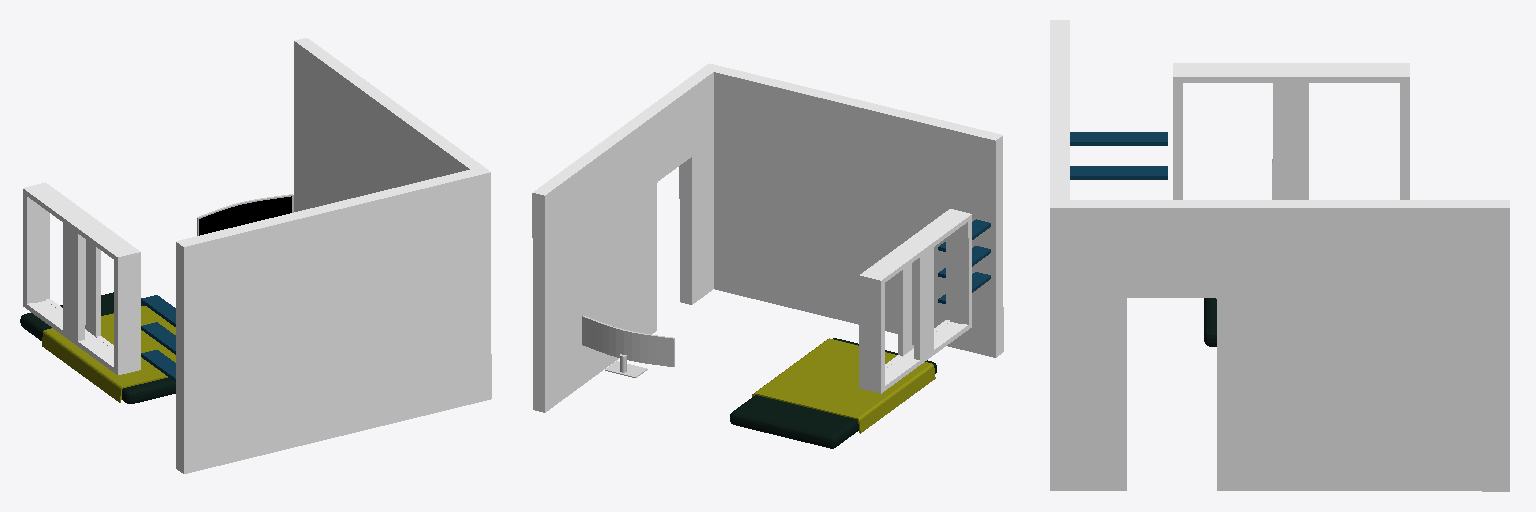
URDF robot description (bedroom):
<?xml version="0.0" ?>
<robot name="bedroom">
  <link name="wall1">
    <contact>
      <lateral_friction value="1.0"/>
      <rolling_friction value="0.0"/>
      <contact_cfm value="0.0"/>
      <contact_erp value="1.0"/>
    </contact>
    <inertial>
      <origin rpy="1.57 0 0" xyz="0.0 0.0 0.0"/>
       <mass value=".1"/>
       <inertia ixx="1" ixy="0" ixz="0" iyy="1" iyz="0" izz="1"/>
    </inertial>
    <visual>
      <origin rpy="1.57 0 0" xyz="0 0 0.0"/>
      <geometry>
        <mesh filename="meshes/bedroom/wall1.obj" />
      </geometry>

    </visual>
    <collision>
      <origin rpy="1.57 0 0" xyz="0 0 0.0"/>
      <geometry>
	 	<mesh filename="meshes/bedroom/wall1.obj" />
      </geometry>
    </collision>
  </link>

  <joint name="wall1" type="fixed">
    <origin rpy="0 0 0" xyz=" 0 0 0"/>
    <parent link="wall1"/>
    <child link="wall2"/>
  </joint>
    <link name="wall2">
    <contact>
      <lateral_friction value="1.0"/>
      <rolling_friction value="0.0"/>
      <contact_cfm value="0.0"/>
      <contact_erp value="1.0"/>
    </contact>
    <inertial>
      <origin rpy="1.57 0 0" xyz="0.0 0.0 0."/>
       <mass value=".1"/>
       <inertia ixx="1" ixy="0" ixz="0" iyy="1" iyz="0" izz="1"/>
    </inertial>
    <visual>
      <origin rpy="1.57 0 0" xyz="0 0 0.0"/>
      <geometry>
        <mesh filename="meshes/bedroom/wall2.obj" />
      </geometry>
      <material name="window">
        <color rgba="1 1 1 0.7" />
      </material>

    </visual>
    <collision>
      <origin rpy="1.57 0 0" xyz="0 0 0.0"/>
      <geometry>
	 	<mesh filename="meshes/bedroom/wall2.obj" />
      </geometry>
    </collision>
  </link>



  <joint name="wall3" type="fixed">
    <origin rpy="0 0 0" xyz=" 0 0 0"/>
    <parent link="wall1"/>
    <child link="wall3"/>
  </joint>
    <link name="wall3">
    <contact>
      <lateral_friction value="1.0"/>
      <rolling_friction value="0.0"/>
      <contact_cfm value="0.0"/>
      <contact_erp value="1.0"/>
    </contact>
    <inertial>
      <origin rpy="1.57 0 0" xyz="0.0 0.0 0."/>
       <mass value=".1"/>
       <inertia ixx="1" ixy="0" ixz="0" iyy="1" iyz="0" izz="1"/>
    </inertial>
    <visual>
      <origin rpy="1.57 0 0" xyz="0 0 0.0"/>
      <geometry>
        <mesh filename="meshes/bedroom/wall3.obj" />
      </geometry>
      <material name="glass">
        <color rgba="1 1 1 1" />
      </material>

    </visual>
    <collision>
      <origin rpy="1.57 0 0" xyz="0 0 0.0"/>
      <geometry>
	 	<mesh filename="meshes/bedroom/wall3.obj" />
      </geometry>
    </collision>
  </link>


  <joint name="wall4" type="fixed">
    <origin rpy="0 0 0" xyz=" 0 0 0"/>
    <parent link="wall1"/>
    <child link="wall4"/>
  </joint>
    <link name="wall4">
    <contact>
      <lateral_friction value="1.0"/>
      <rolling_friction value="0.0"/>
      <contact_cfm value="0.0"/>
      <contact_erp value="1.0"/>
    </contact>
    <inertial>
      <origin rpy="1.57 0 0" xyz="0.0 0.0 0."/>
       <mass value=".1"/>
       <inertia ixx="1" ixy="0" ixz="0" iyy="1" iyz="0" izz="1"/>
    </inertial>
    <visual>
      <origin rpy="1.57 0 0" xyz="0 0 0.0"/>
      <geometry>
        <mesh filename="meshes/bedroom/wall4.obj" />
      </geometry>
      <material name="shelf">
        <color rgba="0.1 0.3 0.4 1" />
      </material>

    </visual>
    <collision>
      <origin rpy="1.57 0 0" xyz="0 0 0.0"/>
      <geometry>
	 	<mesh filename="meshes/bedroom/wall4.obj" />
      </geometry>
    </collision>
  </link>

  <joint name="wall5" type="fixed">
    <origin rpy="0 0 0" xyz=" 0 0 0"/>
    <parent link="wall1"/>
    <child link="wall5"/>
  </joint>
    <link name="wall5">
    <contact>
      <lateral_friction value="1.0"/>
      <rolling_friction value="0.0"/>
      <contact_cfm value="0.0"/>
      <contact_erp value="1.0"/>
    </contact>
    <inertial>
      <origin rpy="1.57 0 0" xyz="0.0 0.0 0."/>
       <mass value=".1"/>
       <inertia ixx="1" ixy="0" ixz="0" iyy="1" iyz="0" izz="1"/>
    </inertial>
    <visual>
      <origin rpy="1.57 0 0" xyz="0 0 0.0"/>
      <geometry>
        <mesh filename="meshes/bedroom/wall5.obj" />
      </geometry>
      <material name="w">
        <color rgba="1 1 1 1" />
      </material>

    </visual>
    <collision>
      <origin rpy="1.57 0 0" xyz="0 0 0.0"/>
      <geometry>
	 	<mesh filename="meshes/bedroom/wall5.obj" />
      </geometry>
    </collision>
  </link>



    <joint name="table1" type="fixed">
    <origin rpy="0 0 0" xyz=" 0 0 0"/>
    <parent link="wall1"/>
    <child link="table1"/>
  </joint>
    <link name="table1">
    <contact>
      <lateral_friction value="1.0"/>
      <rolling_friction value="0.0"/>
      <contact_cfm value="0.0"/>
      <contact_erp value="1.0"/>
    </contact>
    <inertial>
      <origin rpy="1.57 0 0" xyz="0.0 0.0 0."/>
       <mass value=".1"/>
       <inertia ixx="1" ixy="0" ixz="0" iyy="1" iyz="0" izz="1"/>
    </inertial>
    <visual>
      <origin rpy="1.57 0 0" xyz="0 0 0.0"/>
      <geometry>
        <mesh filename="meshes/bedroom/table1.obj" />
      </geometry>

    </visual>
    <collision>
      <origin rpy="1.57 0 0" xyz="0 0 0.0"/>
      <geometry>
	 	<mesh filename="meshes/bedroom/table1.obj" />
      </geometry>
    </collision>
  </link>

  <joint name="table2" type="fixed">
    <origin rpy="0 0 0" xyz=" 0 0 0"/>
    <parent link="wall1"/>
    <child link="table2"/>
  </joint>
    <link name="table2">
    <contact>
      <lateral_friction value="1.0"/>
      <rolling_friction value="0.0"/>
      <contact_cfm value="0.0"/>
      <contact_erp value="1.0"/>
    </contact>
    <inertial>
      <origin rpy="1.57 0 0" xyz="0.0 0.0 0."/>
       <mass value=".1"/>
       <inertia ixx="1" ixy="0" ixz="0" iyy="1" iyz="0" izz="1"/>
    </inertial>
    <visual>
      <origin rpy="1.57 0 0" xyz="0 0 0.0"/>
      <geometry>
        <mesh filename="meshes/bedroom/table2.obj" />
      </geometry>

    </visual>
    <collision>
      <origin rpy="1.57 0 0" xyz="0 0 0.0"/>
      <geometry>
	 	<mesh filename="meshes/bedroom/table2.obj" />
      </geometry>
    </collision>
  </link>



  <joint name="bed2" type="fixed">
    <origin rpy="0 0 0" xyz=" 0 0 0"/>
    <parent link="wall1"/>
    <child link="bed2"/>
  </joint>
    <link name="bed2">
    <contact>
      <lateral_friction value="1.0"/>
      <rolling_friction value="0.0"/>
      <contact_cfm value="0.0"/>
      <contact_erp value="1.0"/>
    </contact>
    <inertial>
      <origin rpy="1.57 0 0" xyz="0.0 0.0 0."/>
       <mass value=".1"/>
       <inertia ixx="1" ixy="0" ixz="0" iyy="1" iyz="0" izz="1"/>
    </inertial>
    <visual>
      <origin rpy="1.57 0 0" xyz="0 0 0.0"/>
      <geometry>
        <mesh filename="meshes/bedroom/bed2.obj" />
      </geometry>
      <material name="bed">
        <color rgba="0.08 0.15 0.13 1" />
      </material>

    </visual>
    <collision>
      <origin rpy="1.57 0 0" xyz="0 0 0.0"/>
      <geometry>
	 	<mesh filename="meshes/bedroom/bed2.obj" />
      </geometry>
    </collision>
  </link>


  <joint name="bed1" type="fixed">
    <origin rpy="0 0 0" xyz=" 0 0 0"/>
    <parent link="wall1"/>
    <child link="bed1"/>
  </joint>
    <link name="bed1">
    <contact>
      <lateral_friction value="1.0"/>
      <rolling_friction value="0.0"/>
      <contact_cfm value="0.0"/>
      <contact_erp value="1.0"/>
    </contact>
    <inertial>
      <origin rpy="1.57 0 0" xyz="0.0 0.0 0."/>
       <mass value=".1"/>
       <inertia ixx="1" ixy="0" ixz="0" iyy="1" iyz="0" izz="1"/>
    </inertial>
    <visual>
      <origin rpy="1.57 0 0" xyz="0 0 0.0"/>
      <geometry>
        <mesh filename="meshes/bedroom/bed1.obj" />
      </geometry>
      <material name="bed1">
        <color rgba="0.6 0.6 0.1 1" />
      </material>

    </visual>
    <collision>
      <origin rpy="1.57 0 0" xyz="0 0 0.0"/>
      <geometry>
	 	<mesh filename="meshes/bedroom/bed1.obj" />
      </geometry>
    </collision>
  </link>



  <joint name="computer" type="fixed">
    <origin rpy="0 0 0" xyz=" 0 0 0"/>
    <parent link="wall1"/>
    <child link="computer"/>
  </joint>
    <link name="computer">
    <contact>
      <lateral_friction value="1.0"/>
      <rolling_friction value="0.0"/>
      <contact_cfm value="0.0"/>
      <contact_erp value="1.0"/>
    </contact>
    <inertial>
      <origin rpy="1.57 0 0" xyz="0.0 0.0 0."/>
       <mass value=".1"/>
       <inertia ixx="1" ixy="0" ixz="0" iyy="1" iyz="0" izz="1"/>
    </inertial>
    <visual>
      <origin rpy="1.57 0 0" xyz="0 0 0.0"/>
      <geometry>
        <mesh filename="meshes/bedroom/computer.obj" />
      </geometry>
      <material name="cp">
        <color rgba="0.9 0.9 0.9 1" />
      </material>

    </visual>
    <collision>
      <origin rpy="1.57 0 0" xyz="0 0 0.0"/>
      <geometry>
	 	<mesh filename="meshes/bedroom/computer.obj" />
      </geometry>
    </collision>
  </link>


  <joint name="computer2" type="fixed">
    <origin rpy="0 0 0" xyz=" 0 0 0"/>
    <parent link="wall1"/>
    <child link="computer2"/>
  </joint>
    <link name="computer2">
    <contact>
      <lateral_friction value="1.0"/>
      <rolling_friction value="0.0"/>
      <contact_cfm value="0.0"/>
      <contact_erp value="1.0"/>
    </contact>
    <inertial>
      <origin rpy="1.57 0 0" xyz="0.0 0.0 0."/>
       <mass value=".1"/>
       <inertia ixx="1" ixy="0" ixz="0" iyy="1" iyz="0" izz="1"/>
    </inertial>
    <visual>
      <origin rpy="1.57 0 0" xyz="0 0 0.0"/>
      <geometry>
        <mesh filename="meshes/bedroom/computer2.obj" />
      </geometry>
      <material name="cp2">
        <color rgba="0 0 0 0.95" />
      </material>

    </visual>
    <collision>
      <origin rpy="1.57 0 0" xyz="0 0 0.0"/>
      <geometry>
	 	<mesh filename="meshes/bedroom/computer2.obj" />
      </geometry>
    </collision>
  </link>

</robot>

--- Facts derived from the render (not from the file) ---
3 views of the same robot in one strip: view 1: azimuth 30°, elevation 25°; view 2: azimuth 150°, elevation 25°; view 3: azimuth 270°, elevation 25° (orthographic).
Robot: bedroom — 11 links, 10 joints (10 fixed); root link wall1; default pose: every joint at zero.
Links seen in each view (by area): view 1: wall5, wall3, bed1, computer2, bed2, wall4; view 2: wall5, wall3, bed1, bed2, computer, wall4; view 3: wall5, wall3, wall4, bed2.
Boxes of the visible links, left/top/right/bottom form: wall5: left=176, top=38, right=491, bottom=473; wall3: left=23, top=182, right=140, bottom=374; bed1: left=42, top=306, right=175, bottom=402; computer2: left=199, top=196, right=291, bottom=235; bed2: left=20, top=292, right=175, bottom=403; wall4: left=141, top=295, right=175, bottom=381; wall5: left=532, top=63, right=1003, bottom=412; wall3: left=859, top=209, right=971, bottom=393; bed1: left=752, top=338, right=935, bottom=433; bed2: left=730, top=338, right=936, bottom=448; computer: left=582, top=316, right=674, bottom=377; wall4: left=938, top=219, right=990, bottom=303; wall5: left=1050, top=20, right=1509, bottom=491; wall3: left=1173, top=63, right=1409, bottom=199; wall4: left=1070, top=132, right=1167, bottom=179; bed2: left=1204, top=298, right=1216, bottom=346.
Size in the robot's own frame: 2.03 by 2 by 1.36 metres.
7 mesh visuals loaded from 11 distinct referenced files (7 OBJ); not drawn: 4 (reference not matched to a file when rendering).